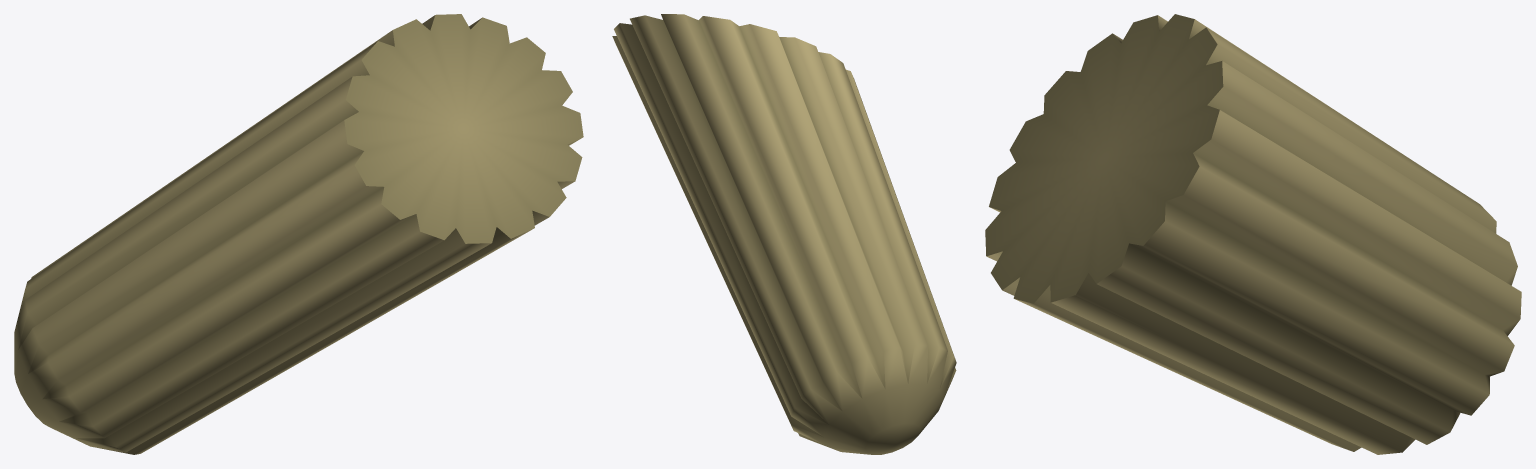
Rendered from microscopic-plankton-drum-diatom_v1.glb.
3 renders of one model, left to right at view 1: azimuth 30°, elevation 25°; view 2: azimuth 150°, elevation 25°; view 3: azimuth 270°, elevation 25°, orthographic. The views are drawn at different scales.
Parts seen in each view (by area): view 1: Drum Diatom; view 2: Drum Diatom; view 3: Drum Diatom.
Part boxes in pixels (x1,y1,x2,y2): Drum Diatom: (14, 14, 583, 454); Drum Diatom: (612, 14, 956, 454); Drum Diatom: (985, 14, 1521, 454).
Size of the model in its own units: 0.5 by 0.4192 by 0.3681.
